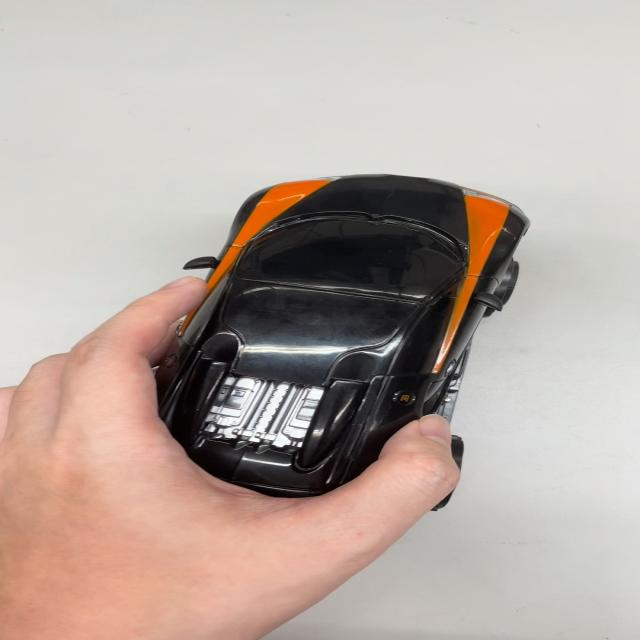vehicle_body: (119, 169, 545, 496)
